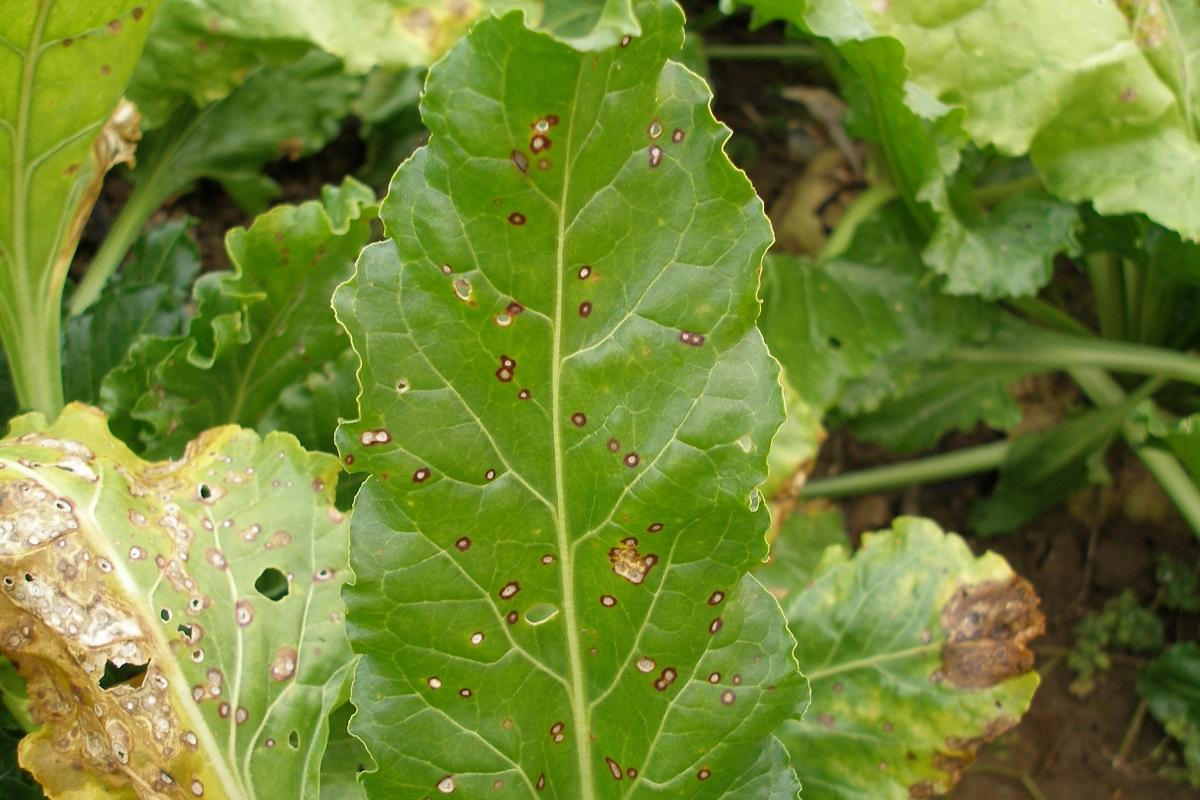black-spot: (459, 102, 715, 510)
